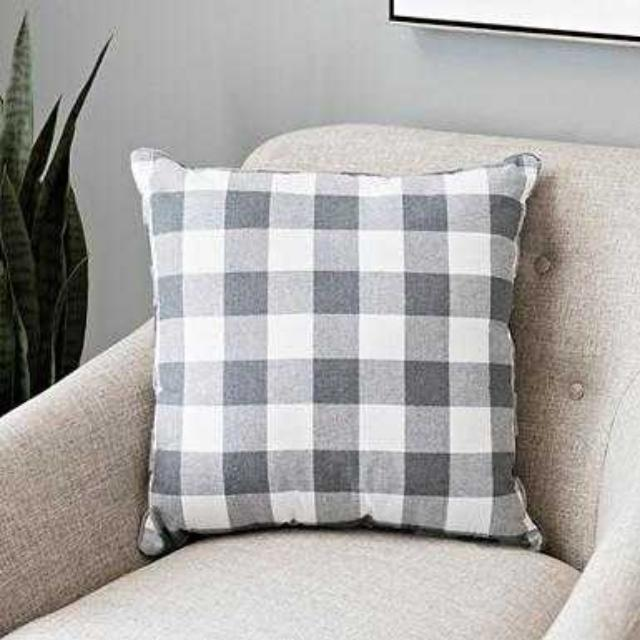pillow: (128, 145, 548, 557)
